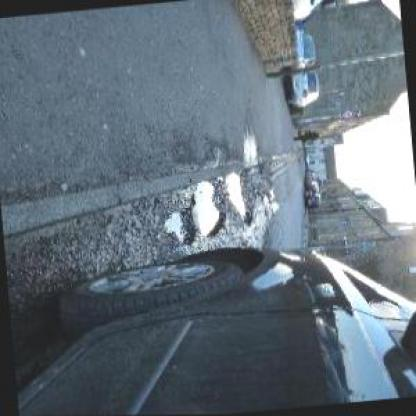pothole: (191, 178, 226, 237), (221, 168, 255, 227), (161, 206, 194, 247)
